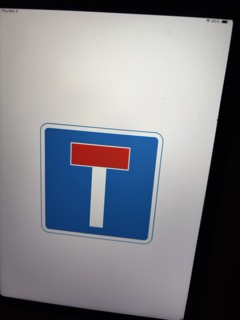DEAD END: (41, 123, 161, 244)
